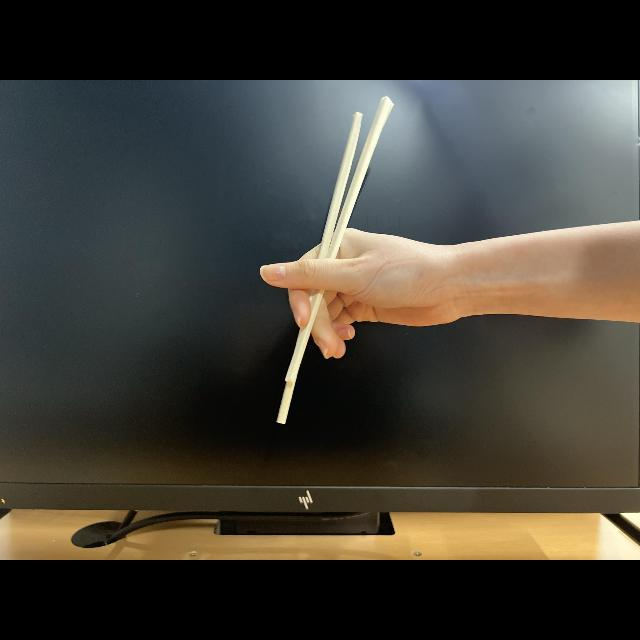stick: (271, 97, 394, 423)
